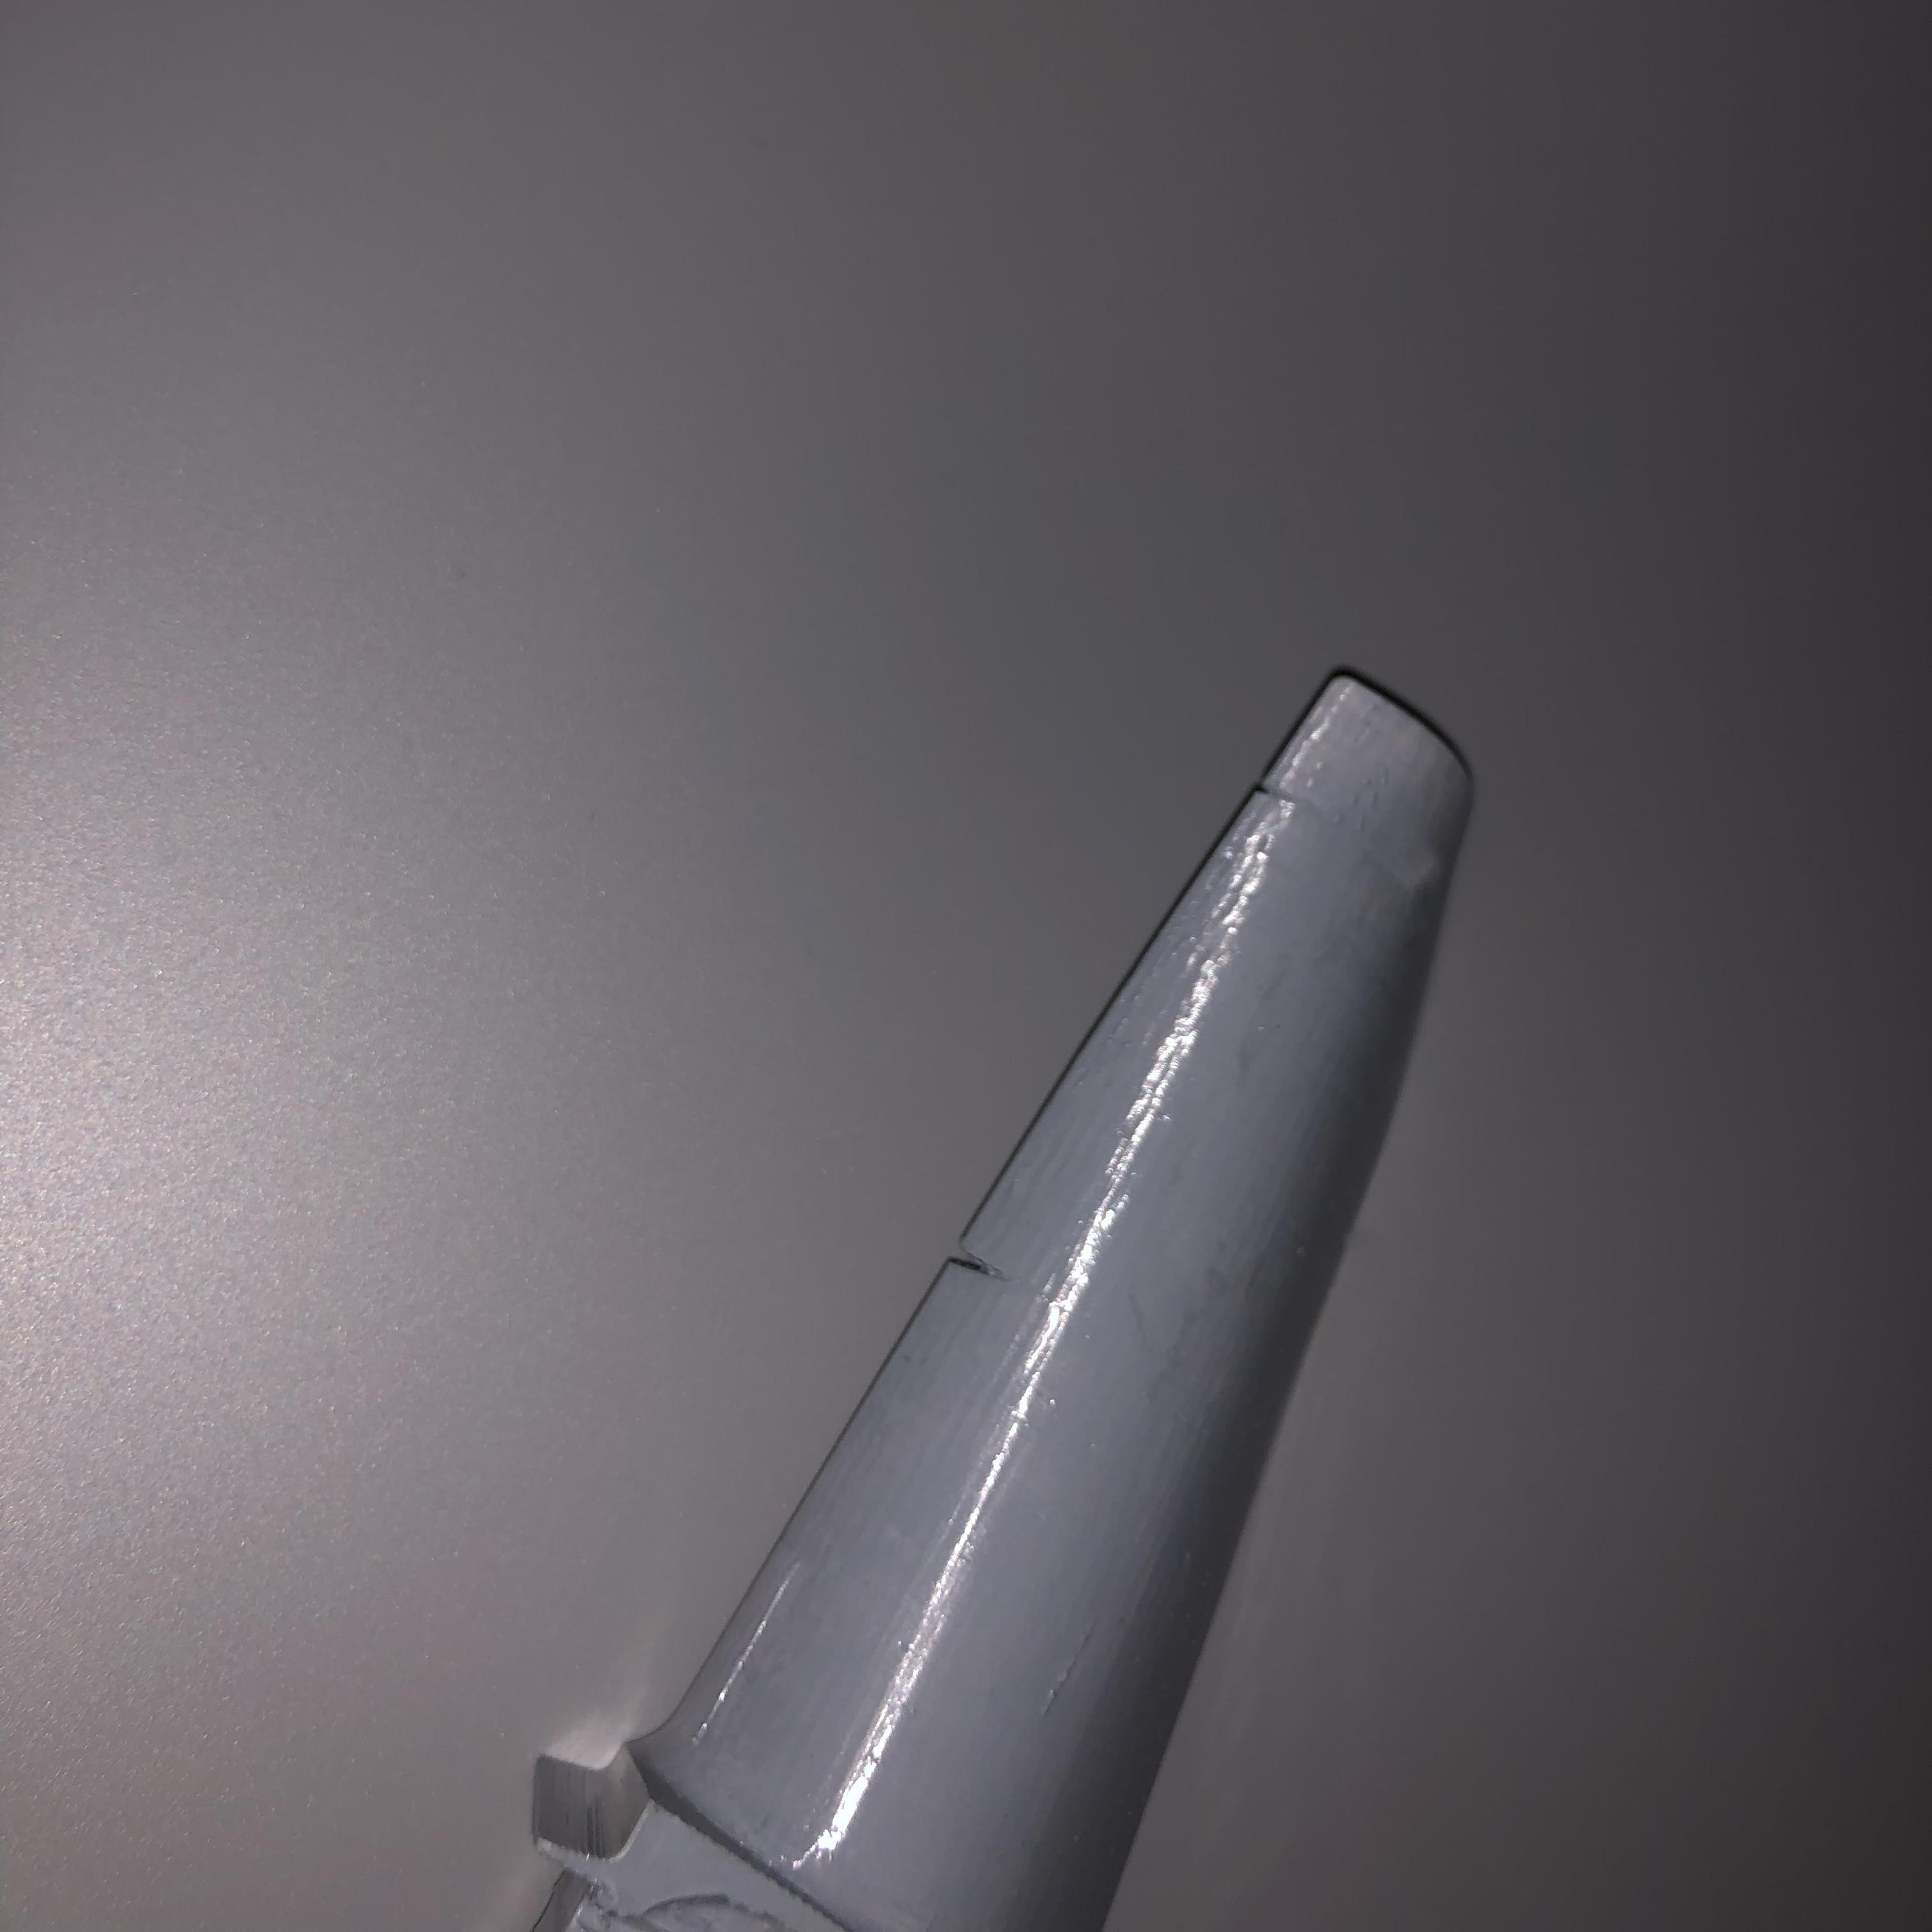groove: (948, 1237, 1024, 1295), (1254, 766, 1300, 810)
